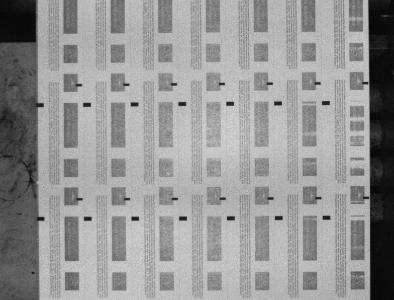backgroundclutter: (31, 271, 35, 274)
qblock: (37, 216, 45, 221), (178, 102, 187, 106), (322, 101, 331, 105), (227, 101, 234, 106), (84, 216, 92, 220), (179, 216, 187, 220), (131, 216, 139, 220), (323, 215, 331, 219), (275, 216, 283, 220), (227, 216, 235, 220), (36, 103, 44, 107), (83, 103, 91, 107), (131, 102, 139, 106), (274, 101, 282, 105)
smallqblock: (76, 83, 82, 87), (363, 81, 369, 85), (171, 83, 178, 86), (123, 83, 130, 86), (219, 82, 226, 85), (124, 197, 130, 200), (77, 198, 83, 201), (172, 197, 178, 200), (268, 197, 274, 200), (220, 197, 226, 200), (364, 196, 370, 199), (316, 196, 322, 199), (267, 82, 273, 85), (315, 82, 321, 85)
